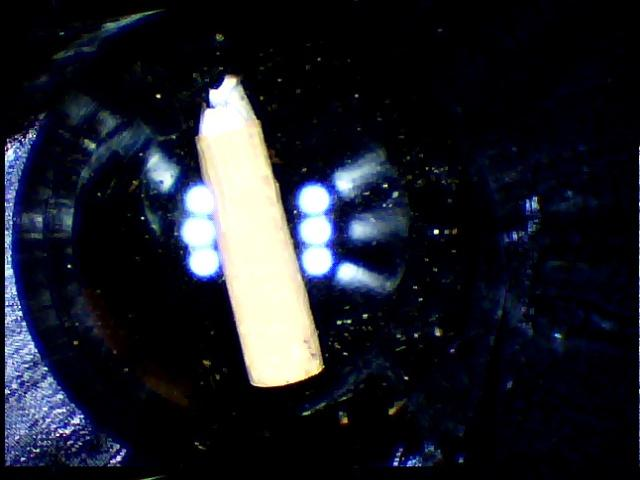megot: (168, 67, 331, 399)
